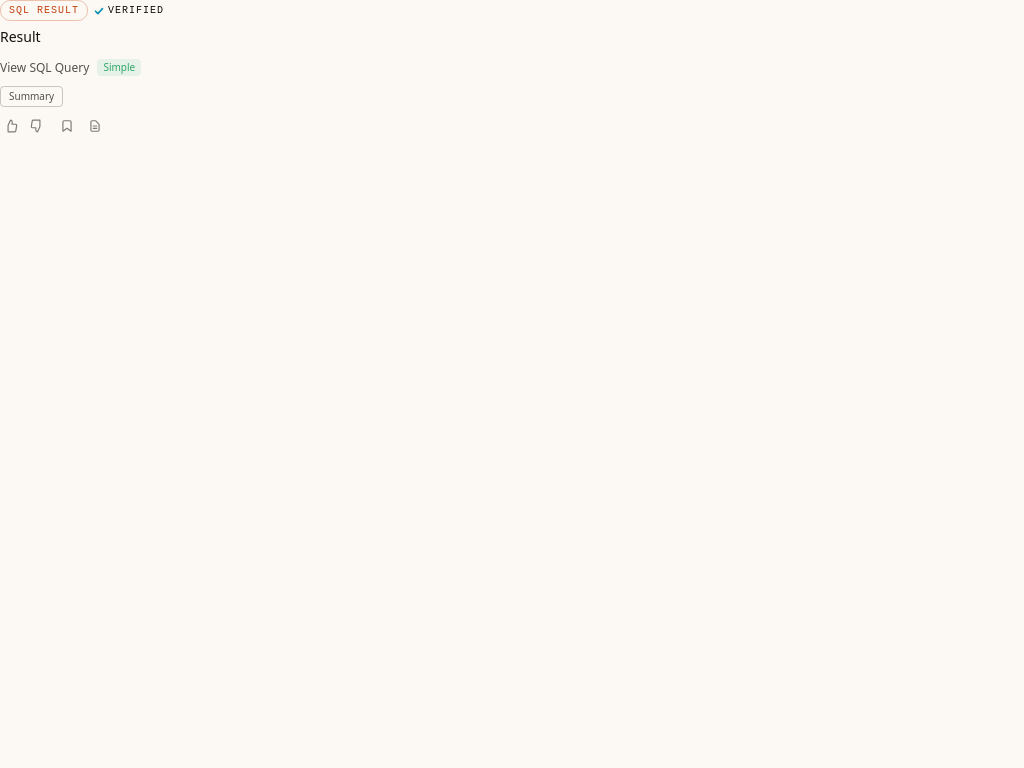
ChatMessage › thumbs down on a SQL result opens the investigation instead of writing for the reader
Click the button titled "Not helpful": (37, 126) [26,115,48,137]
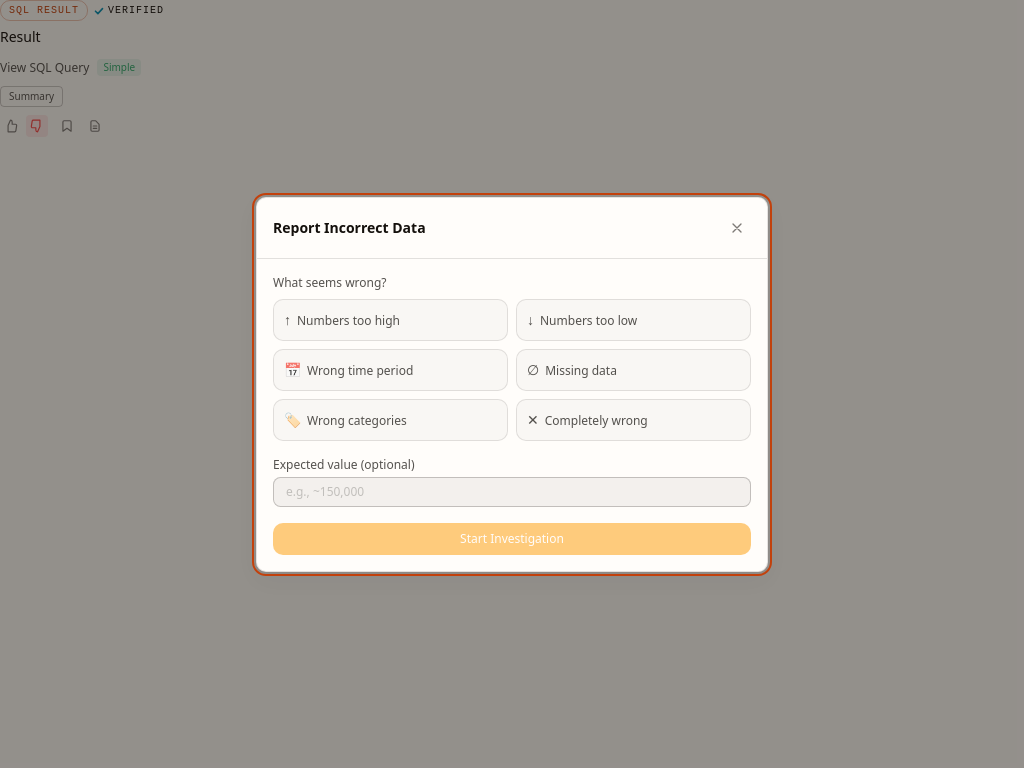
Result: the dialog is shown at [256,196,768,572]
Result: the button "↑Numbers too high" is shown at [273,298,508,340]
